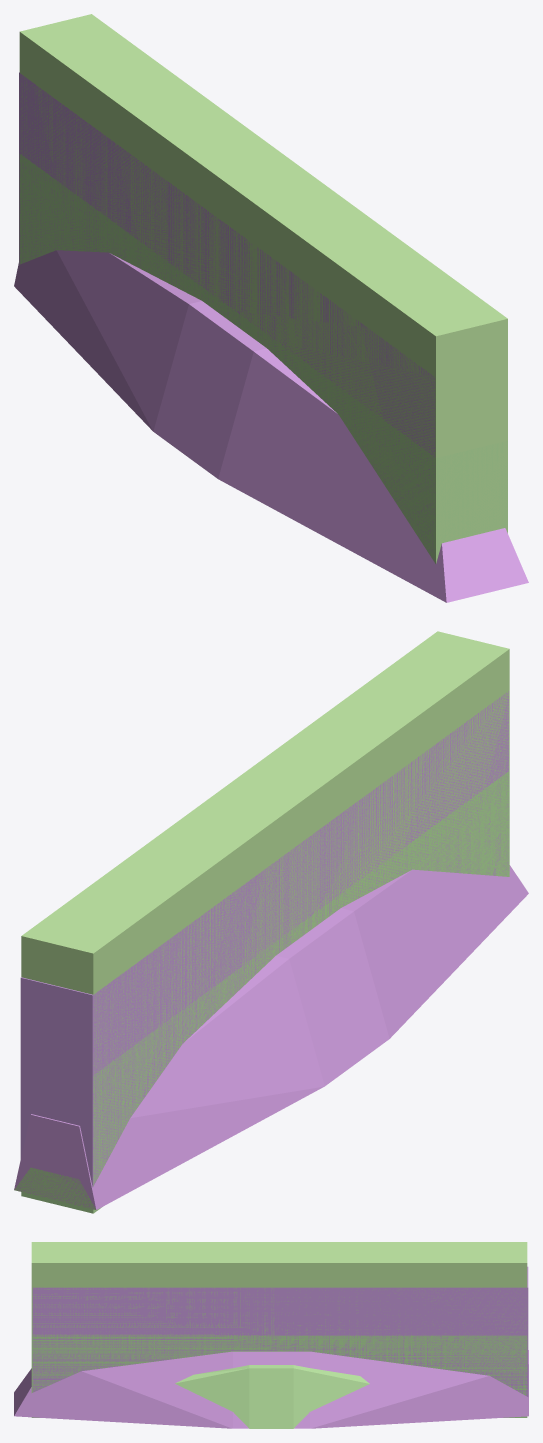
The model's file is sandbagwall.glb.
3 views of the same model, one above another, from view 1: azimuth 30°, elevation 25°; view 2: azimuth 150°, elevation 25°; view 3: azimuth 270°, elevation 25° (orthographic). The views are drawn at different scales.
Parts seen in each view (by area): view 1: S5|SM_SandBag_Barrier_Stage5#0, S2|SM_SandBag_Barrier_Stage2#0, S4|SM_SandBag_Barrier_Stage4#0, S3|SM_SandBag_Barrier_Stage3#0; view 2: S5|SM_SandBag_Barrier_Stage5#0, S2|SM_SandBag_Barrier_Stage2#0, S4|SM_SandBag_Barrier_Stage4#0, S3|SM_SandBag_Barrier_Stage3#0, S1|SM_SandBag_Barrier_Stage1#0; view 3: S4|SM_SandBag_Barrier_Stage4#0, S5|SM_SandBag_Barrier_Stage5#0, S2|SM_SandBag_Barrier_Stage2#0, S3|SM_SandBag_Barrier_Stage3#0, S1|SM_SandBag_Barrier_Stage1#0.
Part boxes in pixels (x1,y1,x2,y2): S5|SM_SandBag_Barrier_Stage5#0: (19, 14, 507, 563); S2|SM_SandBag_Barrier_Stage2#0: (14, 250, 528, 602); S4|SM_SandBag_Barrier_Stage4#0: (19, 72, 435, 560); S3|SM_SandBag_Barrier_Stage3#0: (19, 154, 507, 563); S5|SM_SandBag_Barrier_Stage5#0: (21, 631, 509, 1183); S2|SM_SandBag_Barrier_Stage2#0: (14, 865, 528, 1210); S4|SM_SandBag_Barrier_Stage4#0: (20, 691, 508, 1187); S3|SM_SandBag_Barrier_Stage3#0: (21, 771, 509, 1213); S1|SM_SandBag_Barrier_Stage1#0: (14, 1167, 95, 1209); S4|SM_SandBag_Barrier_Stage4#0: (32, 1266, 528, 1396); S5|SM_SandBag_Barrier_Stage5#0: (31, 1242, 527, 1394); S2|SM_SandBag_Barrier_Stage2#0: (14, 1350, 528, 1428); S3|SM_SandBag_Barrier_Stage3#0: (31, 1335, 527, 1417); S1|SM_SandBag_Barrier_Stage1#0: (175, 1365, 369, 1428).
Bounding box in the file's own units: 0.7067 × 1.03 × 3.12.
